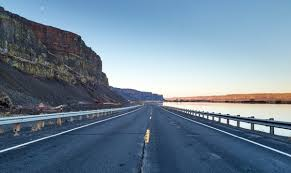strada: (92, 102, 290, 172)
